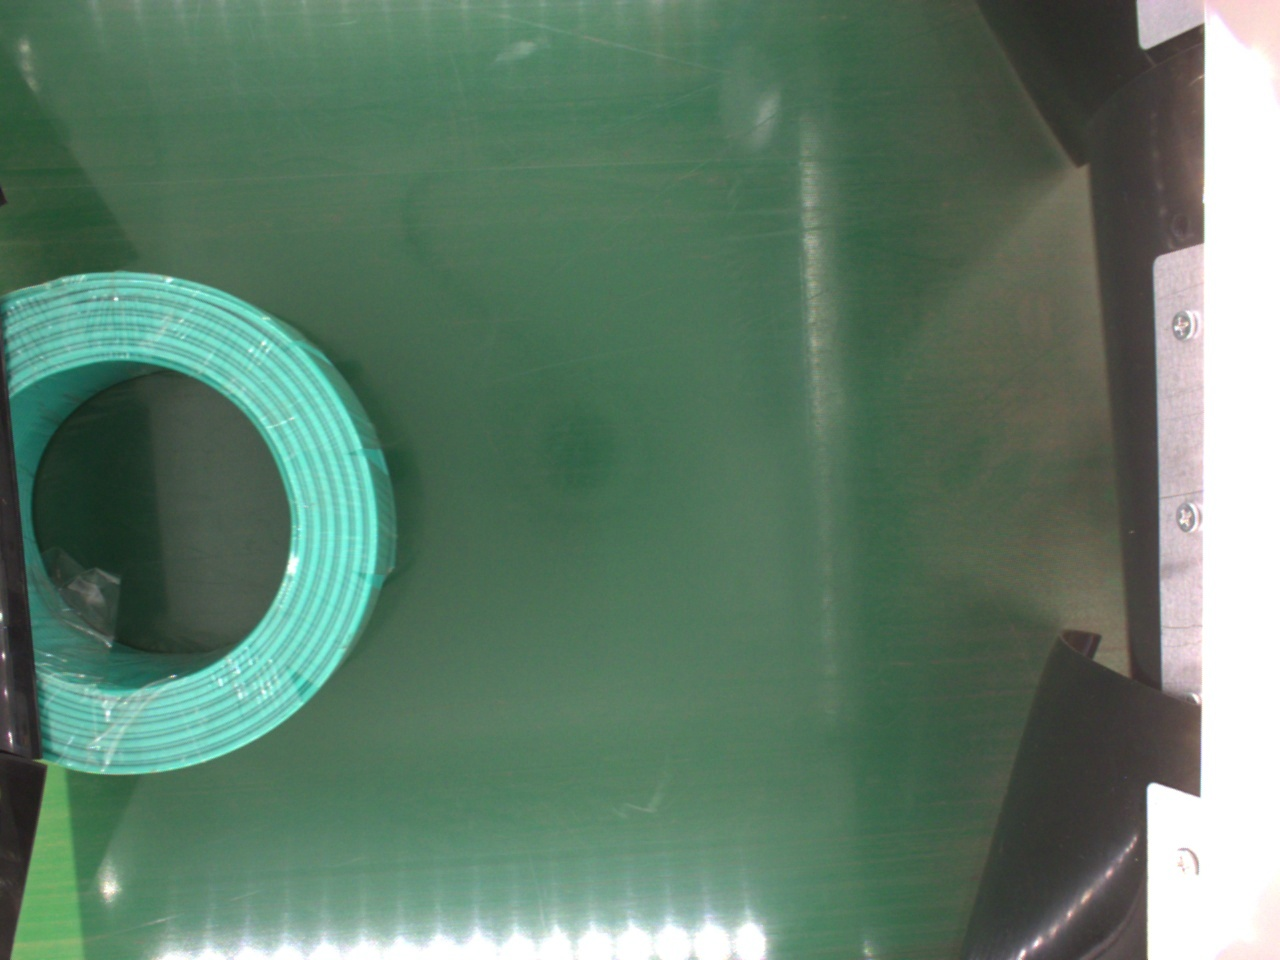green: (9, 277, 395, 777)
